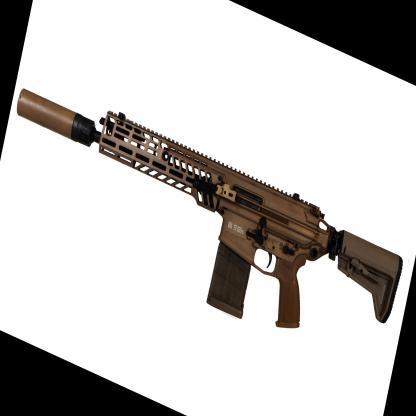rifle: (93, 0, 416, 224)
